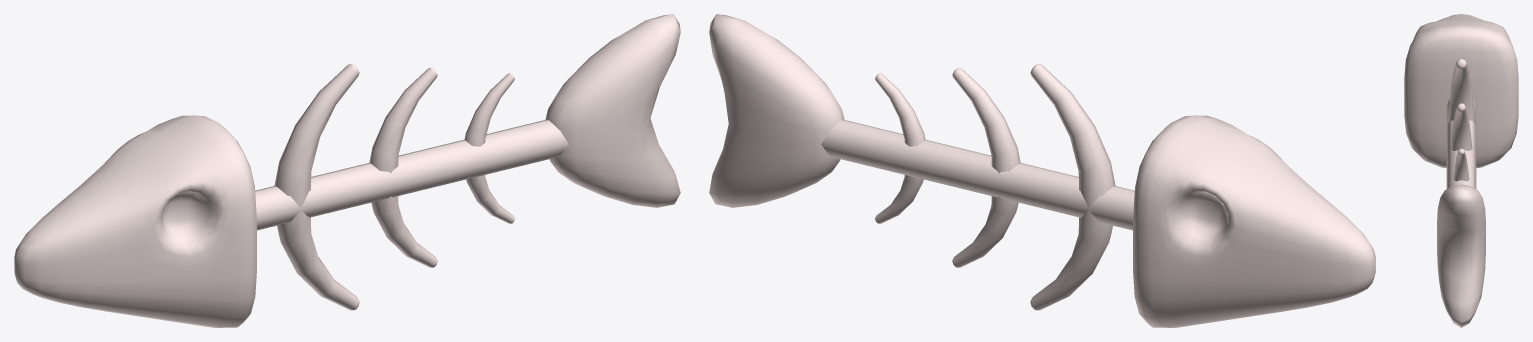
Rendered from Skeleton_Fish_1.fbx.
3 renders of one model, left to right at view 1: azimuth 30°, elevation 25°; view 2: azimuth 150°, elevation 25°; view 3: azimuth 270°, elevation 25°, orthographic. The views are drawn at different scales.
Visible parts, largest first — view 1: Skeleton_Fish_1; view 2: Skeleton_Fish_1; view 3: Skeleton_Fish_1.
Part boxes in pixels (x1,y1,x2,y2): Skeleton_Fish_1: (14, 14, 680, 327); Skeleton_Fish_1: (709, 14, 1375, 327); Skeleton_Fish_1: (1404, 14, 1518, 327).
Size of the model in its own units: 54.71 by 19.33 by 11.38.
